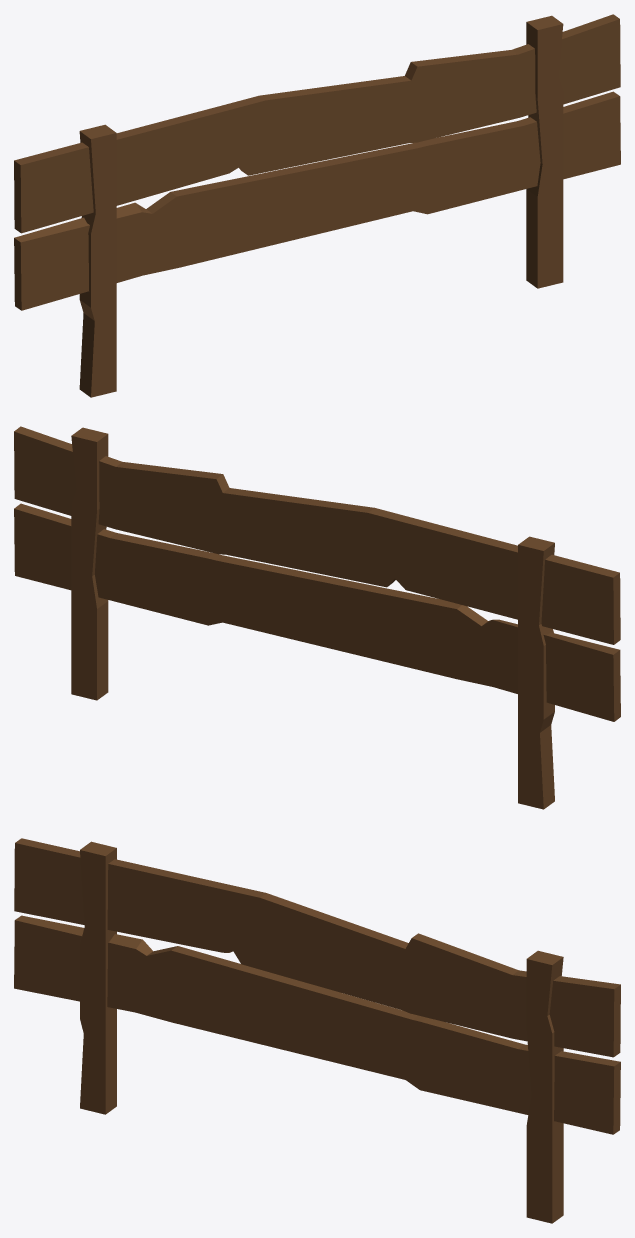
Rendered from Fence.glb.
The picture shows the model from 3 angles, top to bottom: view 1: azimuth 30°, elevation 25°; view 2: azimuth 150°, elevation 25°; view 3: azimuth 330°, elevation 25°; orthographic projection.
Parts seen in each view (by area): view 1: Fence; view 2: Fence; view 3: Fence.
Boxes of the visible parts, <box> form: Fence: <box>14,14,620,397</box>; Fence: <box>14,426,620,809</box>; Fence: <box>14,838,620,1223</box>.
Bounding box in the file's own units: 0.791 × 0.326 × 0.0259.
